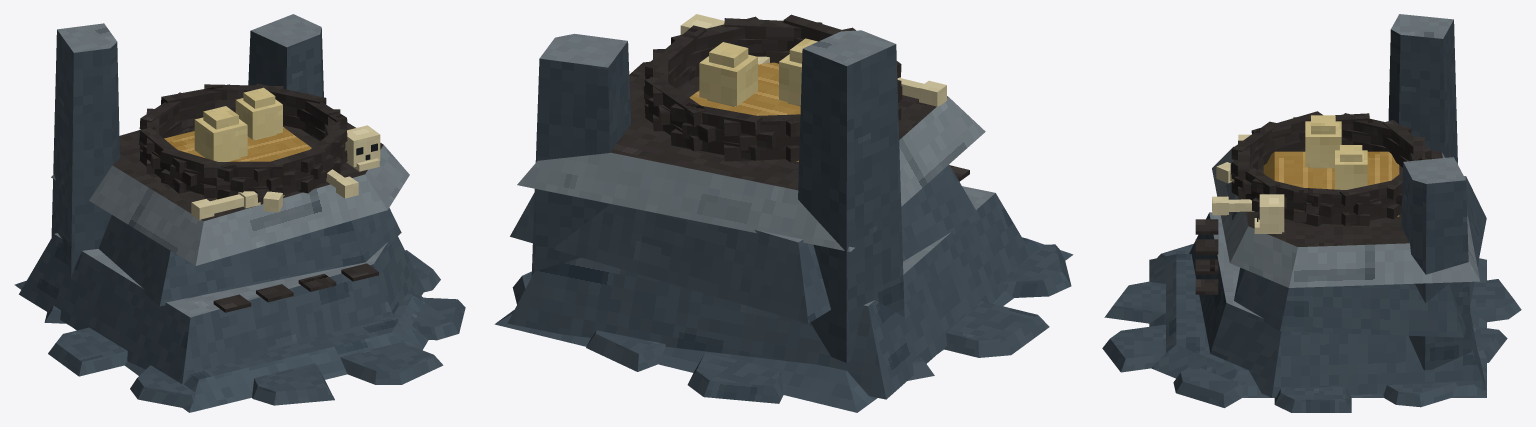
Rendered from wyvern_lair_v1.glb.
3 views of the same model, side by side, from view 1: azimuth 30°, elevation 25°; view 2: azimuth 150°, elevation 25°; view 3: azimuth 270°, elevation 25° (orthographic). The views are drawn at different scales.
Parts seen in each view (by area): view 1: Model; view 2: Model; view 3: Model.
Boxes of the visible parts, x1,y1,x2,y2 form: Model: (14, 14, 465, 412); Model: (494, 14, 1073, 412); Model: (1102, 14, 1521, 412).
Bounding box in the file's own units: 1.35 × 0.9096 × 1.37.
1 material, 1 textured.
